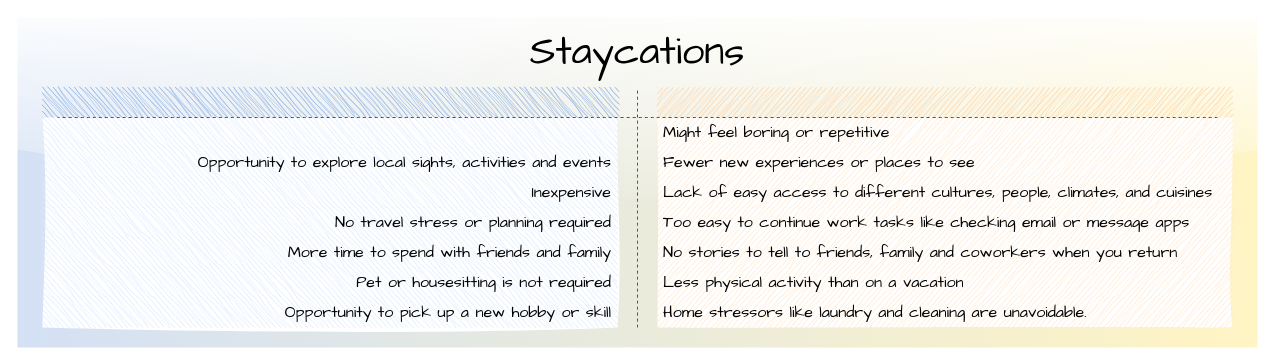
Image size: 1274x364. Some labels were removed from this diagram. Here are the shapes that lost their labels. From the top down, the box of each, then its label:
(42, 117, 617, 147): Spare time do things around the home that were being put off
(42, 87, 617, 327): Advantages
(657, 87, 1232, 327): Disadvantages
